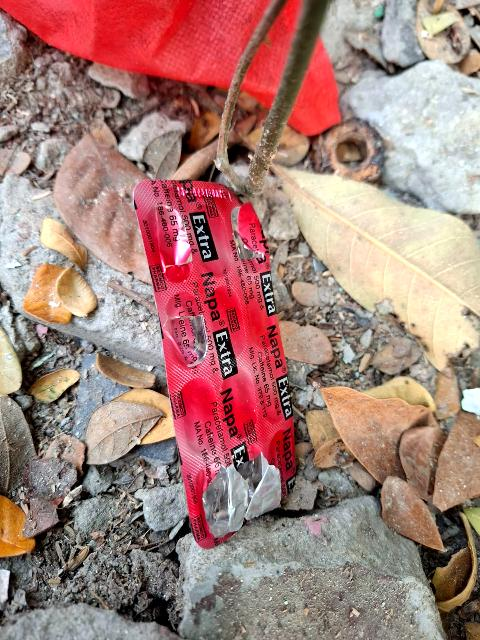medicine: (126, 142, 316, 545)
